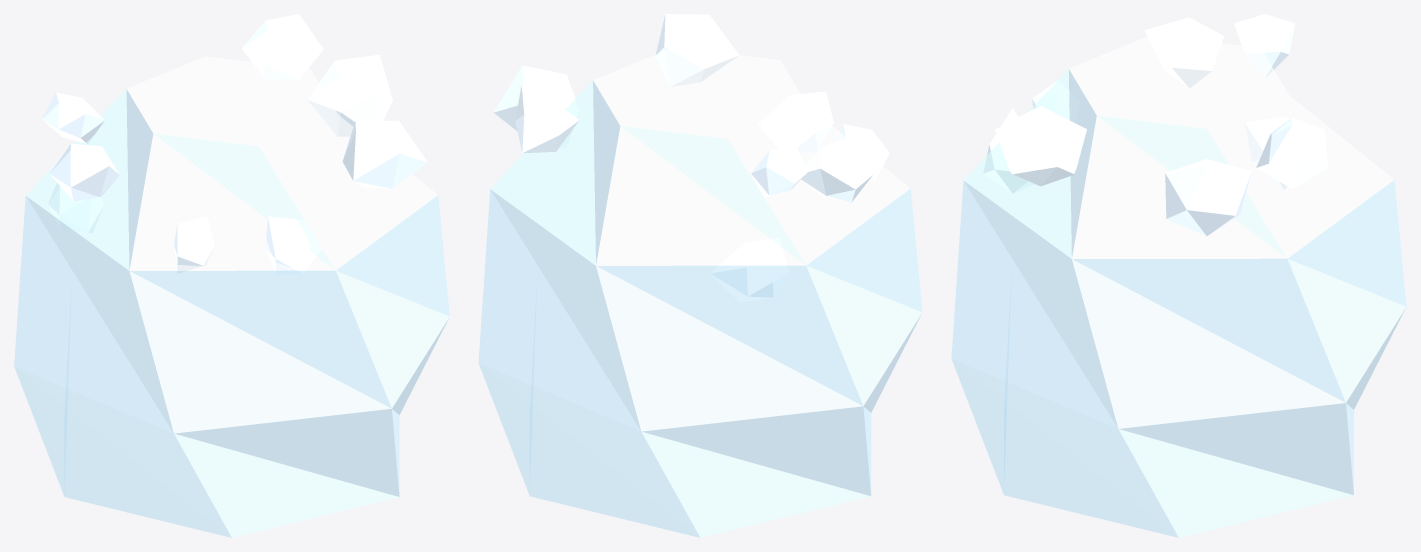
File: ob_ice2.glb
The picture shows the model from 3 angles, left to right: view 1: azimuth 30°, elevation 25°; view 2: azimuth 150°, elevation 25°; view 3: azimuth 270°, elevation 25°; orthographic projection. The views are drawn at different scales.
Size of the model in its own units: 1.52 by 1.43 by 1.51.
